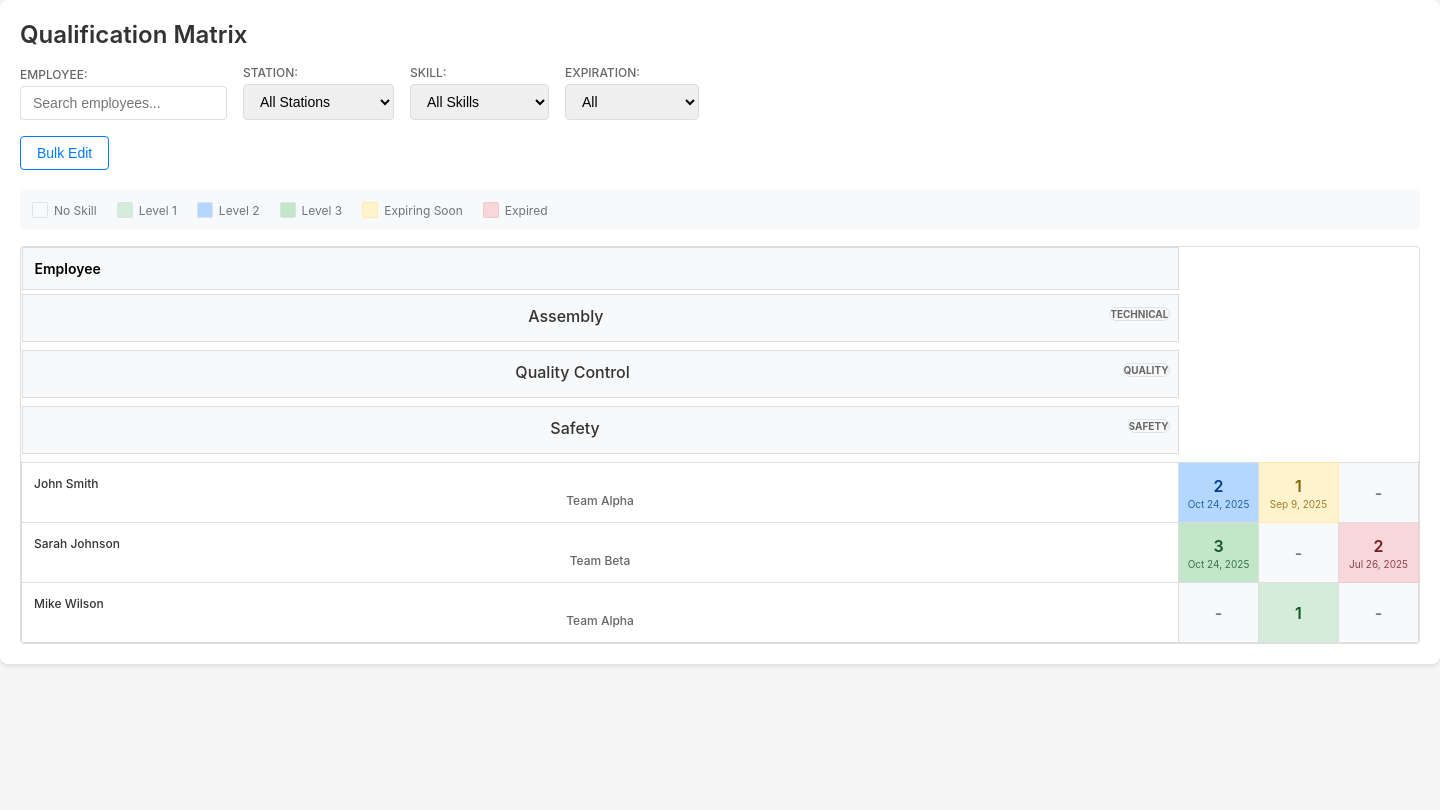
Scenario: QualificationMatrix › handles skill filtering correctly
Step 1. Select "Assembly" in the dropdown labelled "Skill:" → (480, 102), box [410,84,549,120]
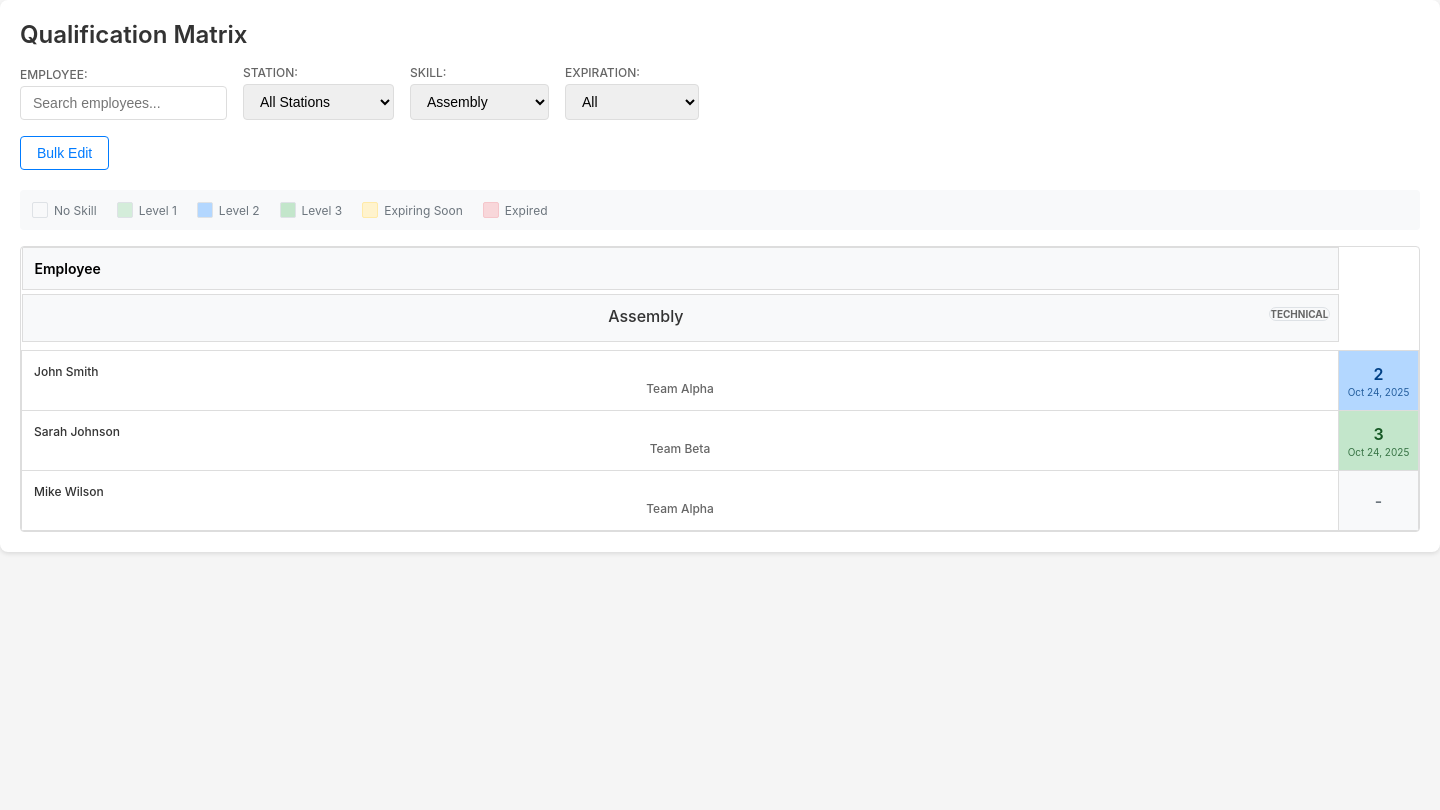
Check: the text with class "skill-name" reads "Assembly", box [608,306,684,326]
Check: the number of elements with class "skill-name" is 1, box [608,306,684,326]
